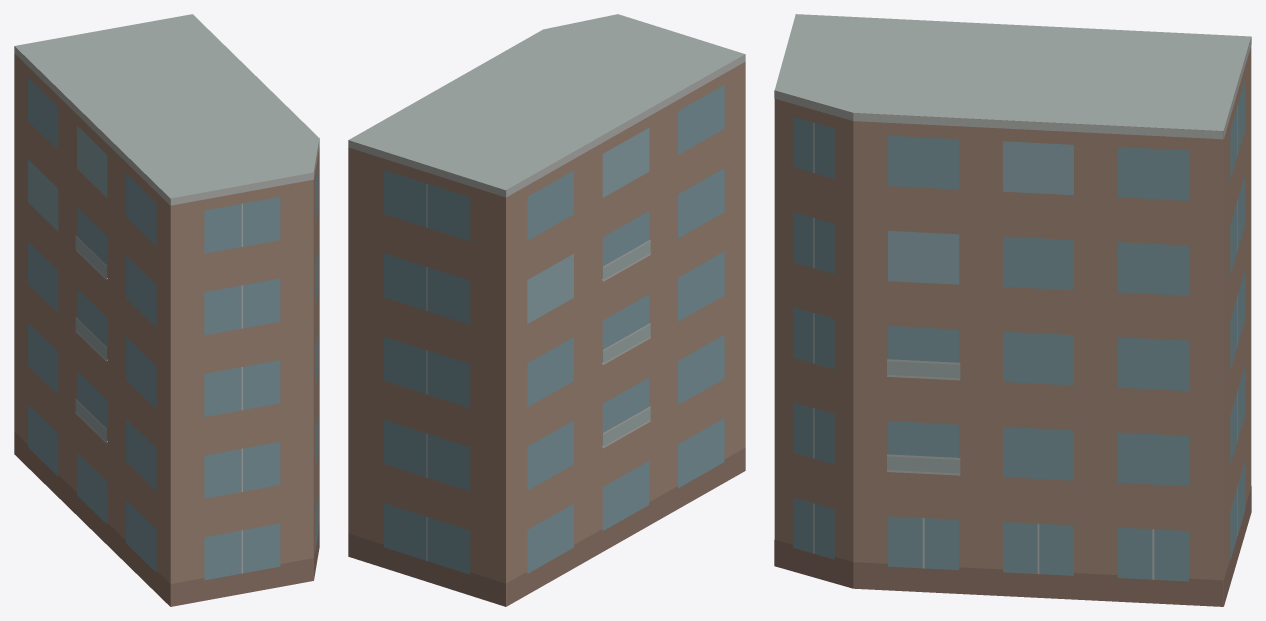
File: survey-upis-33025196.glb
3 renders of one model, left to right at view 1: azimuth 30°, elevation 25°; view 2: azimuth 150°, elevation 25°; view 3: azimuth 270°, elevation 25°, orthographic. The views are drawn at different scales.
Visible parts, largest first — view 1: survey-upis-33025196.tmp; view 2: survey-upis-33025196.tmp; view 3: survey-upis-33025196.tmp.
Boxes of the visible parts, <box> form: survey-upis-33025196.tmp: <box>14,14,319,606</box>; survey-upis-33025196.tmp: <box>348,14,745,606</box>; survey-upis-33025196.tmp: <box>774,14,1251,606</box>.
Bounding box in the file's own units: 7.42 × 14.05 × 12.77.
